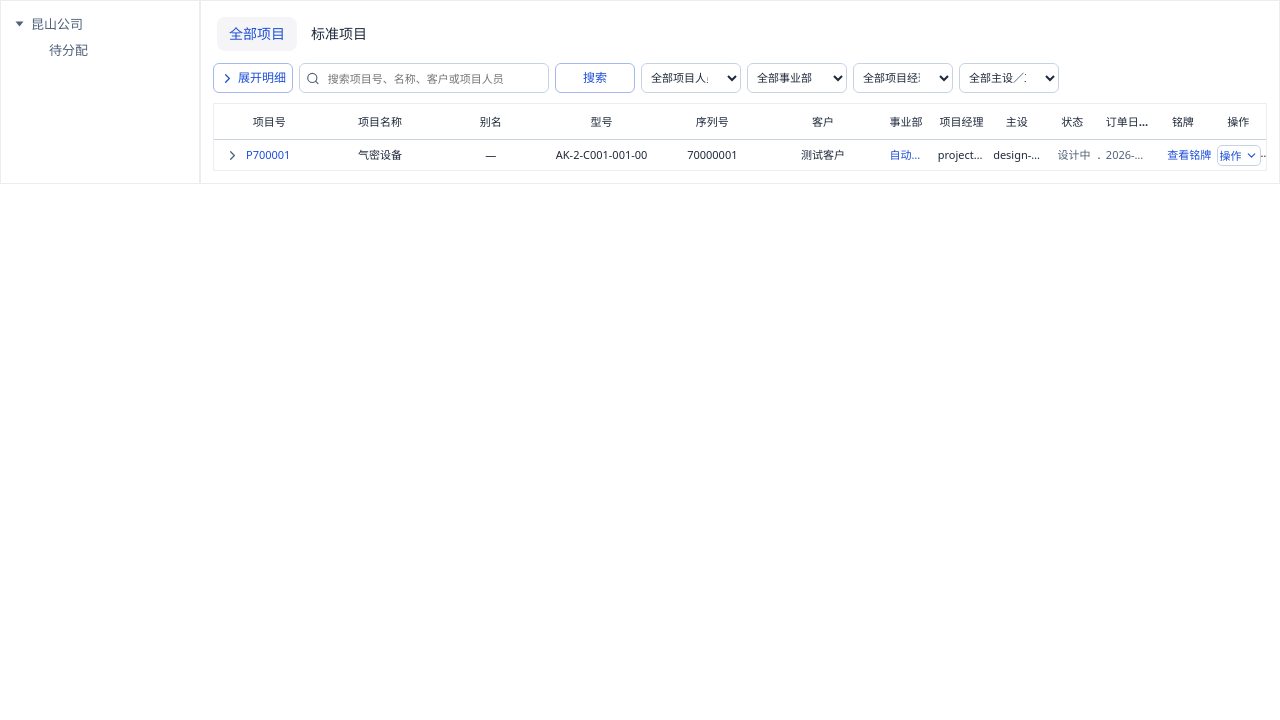
Test: ProjectManager › 列表仅允许分配事业部，管理员也不能从此修改其他项目字段或人员
The width and height of the screenshot is (1280, 720).
Click the button with aria-label "分配事业部 P700001": (906, 155) [882,145,930,166]
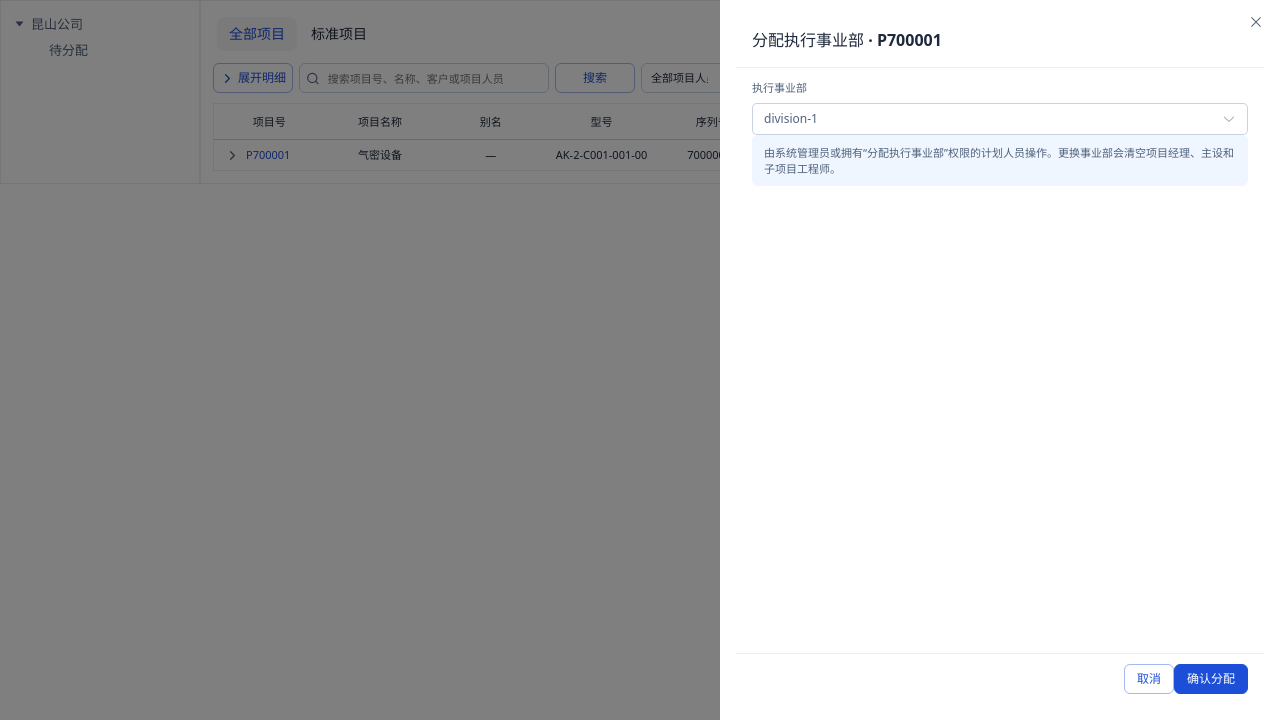
Now the text "分配执行事业部 · P700001" is shown, box [752,29,942,51]
